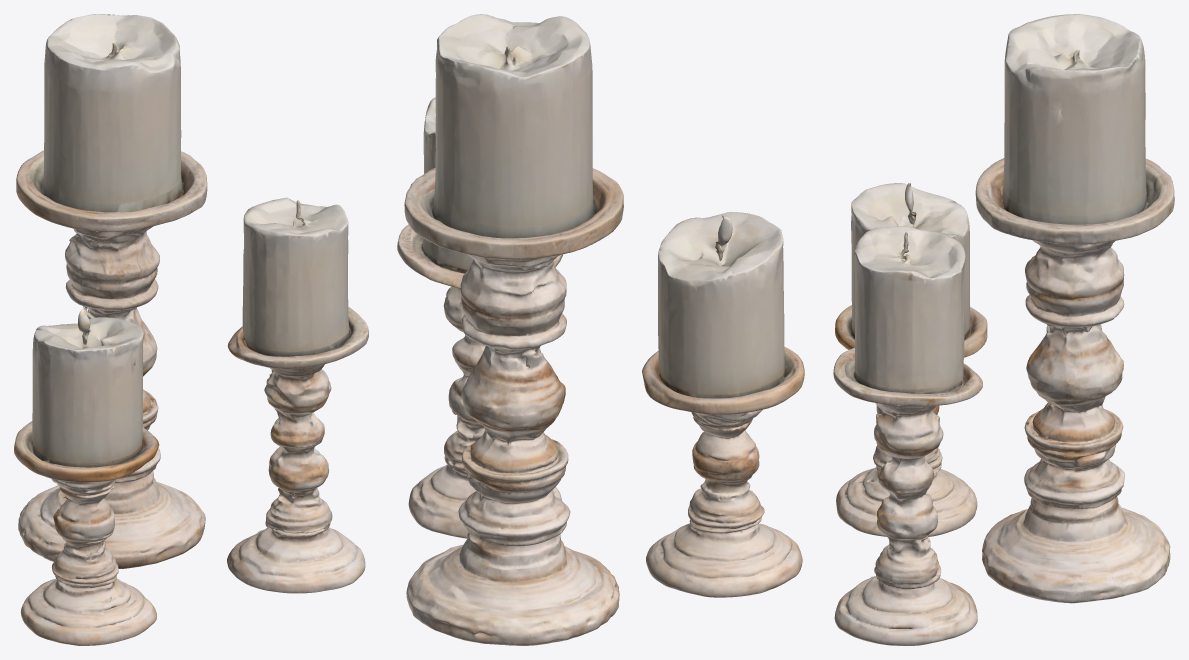
Rendered from Meshy_AI_Pillar_candles_0327215808_texture.glb.
3 views of the same model, side by side, from view 1: azimuth 30°, elevation 25°; view 2: azimuth 150°, elevation 25°; view 3: azimuth 270°, elevation 25° (orthographic). The views are drawn at different scales.
Size of the model in its own units: 1.4 by 2 by 1.18.
Materials: 1 (1 with a texture image).
